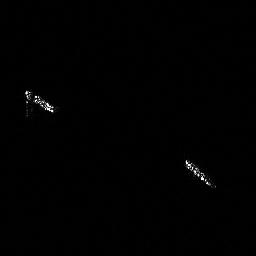ship: (181, 155, 217, 192), (21, 87, 59, 118)
